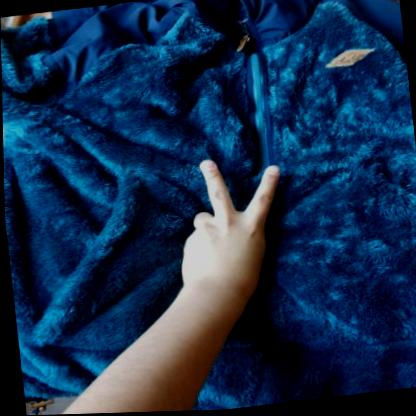V: (162, 149, 297, 316)
